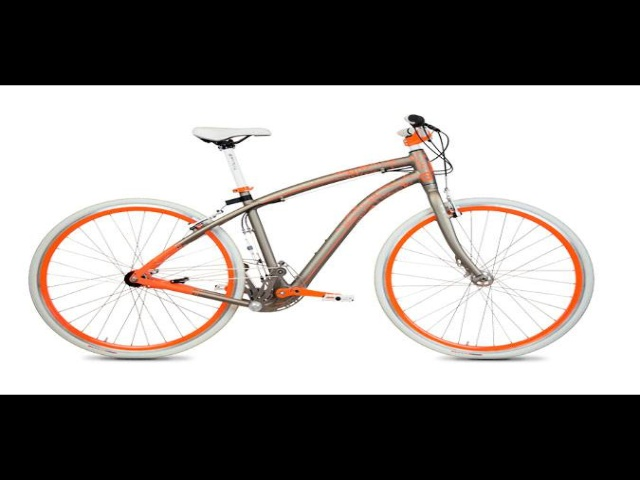bike: (19, 114, 603, 380)
